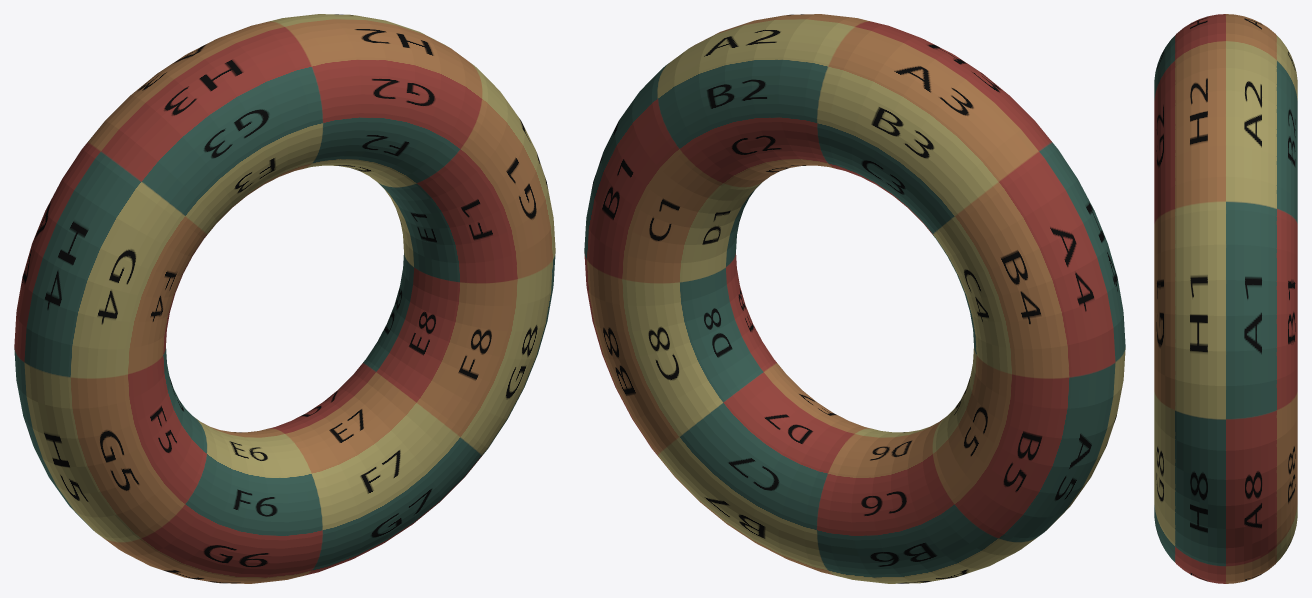
The model's file is texture_torus_R20_r22.glb.
3 views of the same model, side by side, from view 1: azimuth 30°, elevation 25°; view 2: azimuth 150°, elevation 25°; view 3: azimuth 270°, elevation 25° (orthographic). The views are drawn at different scales.
Parts seen in each view (by area): view 1: world; view 2: world; view 3: world.
Part boxes in pixels (box(x1,y1,x2,y2)): world: box(14, 14, 555, 583); world: box(584, 14, 1125, 583); world: box(1154, 14, 1297, 583).
Bounding box in the file's own units: 31.2 × 31.14 × 7.85.
Materials: 1 (1 with a texture image).
